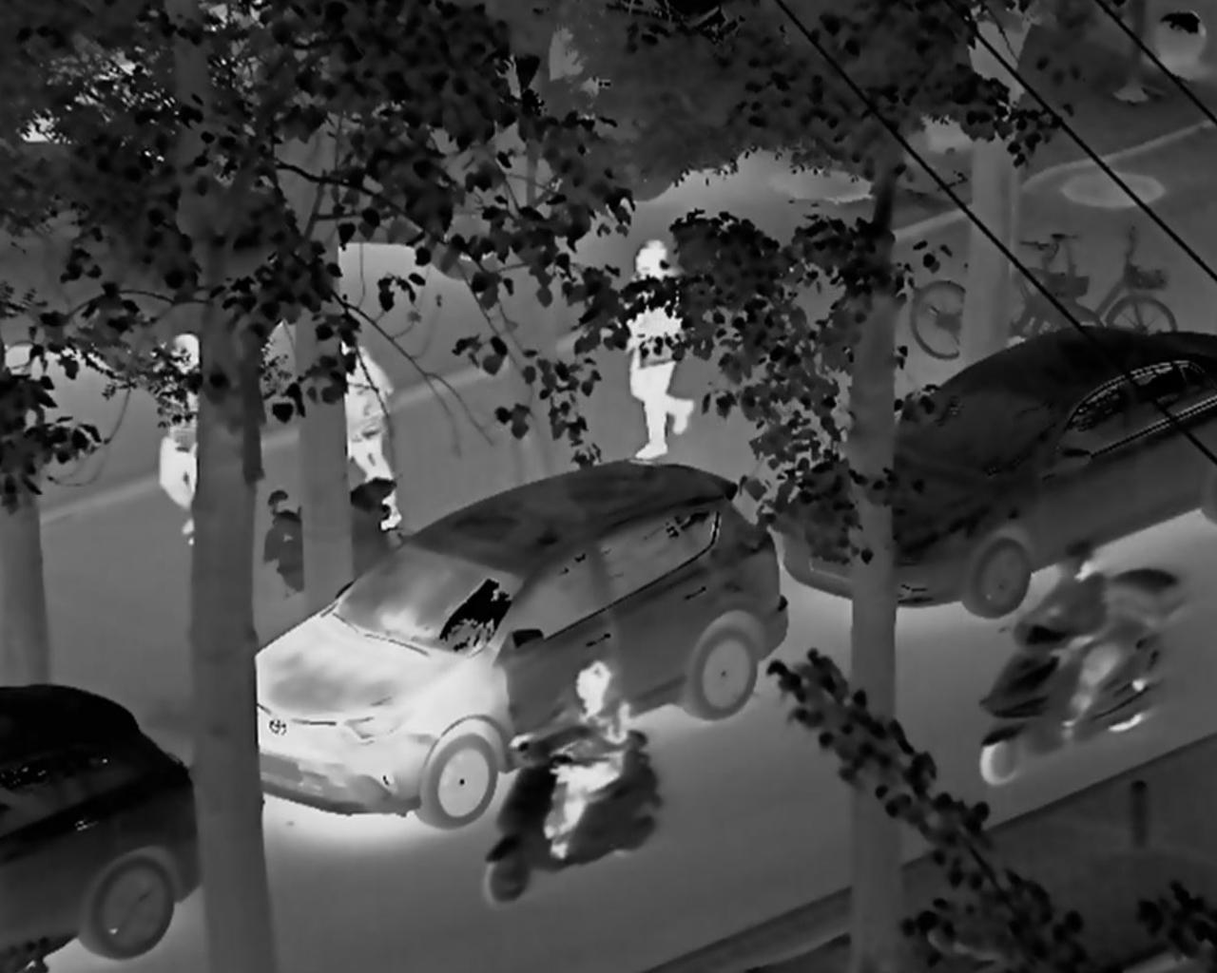person: (504, 660, 628, 854), (612, 236, 697, 459), (1022, 537, 1112, 740), (338, 341, 401, 530), (156, 336, 200, 523)
